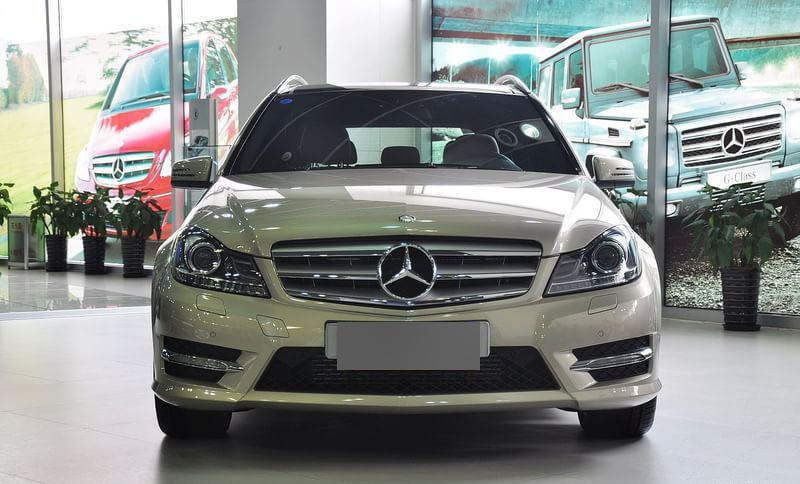Wagon: (149, 72, 664, 439)
